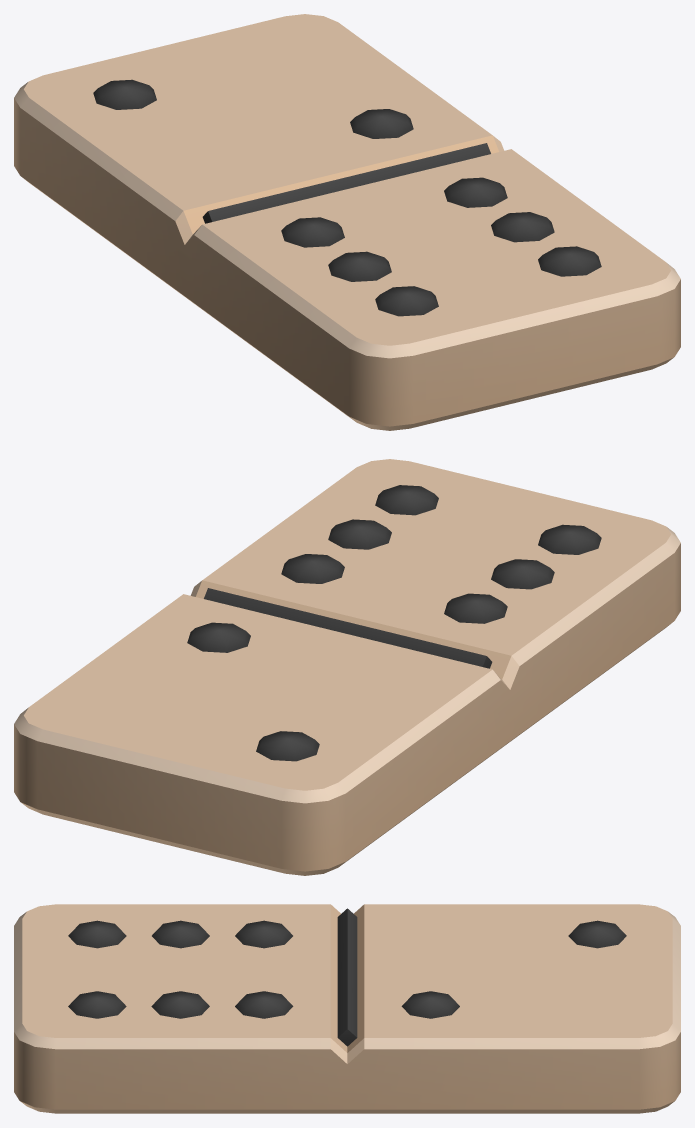
File: domino_tile_2-6.gltf
3 renders of one model, top to bottom at view 1: azimuth 30°, elevation 25°; view 2: azimuth 150°, elevation 25°; view 3: azimuth 270°, elevation 25°, orthographic. The views are drawn at different scales.
Visible parts, largest first — view 1: domino_tile_2-6; view 2: domino_tile_2-6; view 3: domino_tile_2-6.
Part boxes in pixels (box(x1,y1,x2,y2)): domino_tile_2-6: box(14, 14, 680, 430); domino_tile_2-6: box(14, 459, 680, 875); domino_tile_2-6: box(14, 904, 680, 1113).
Size of the model in its own units: 1 by 0.2767 by 2.
Materials: 1 (1 with a texture image).
